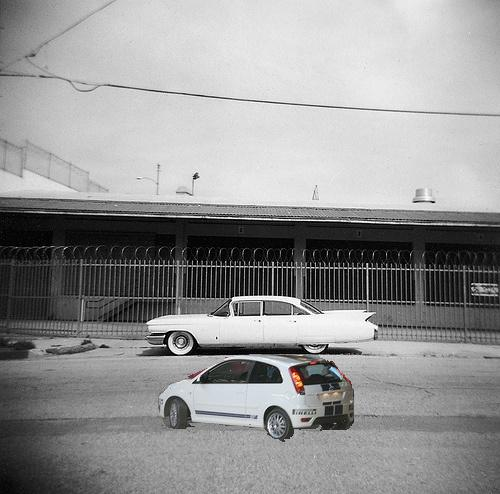tampered: (159, 355, 354, 442)
